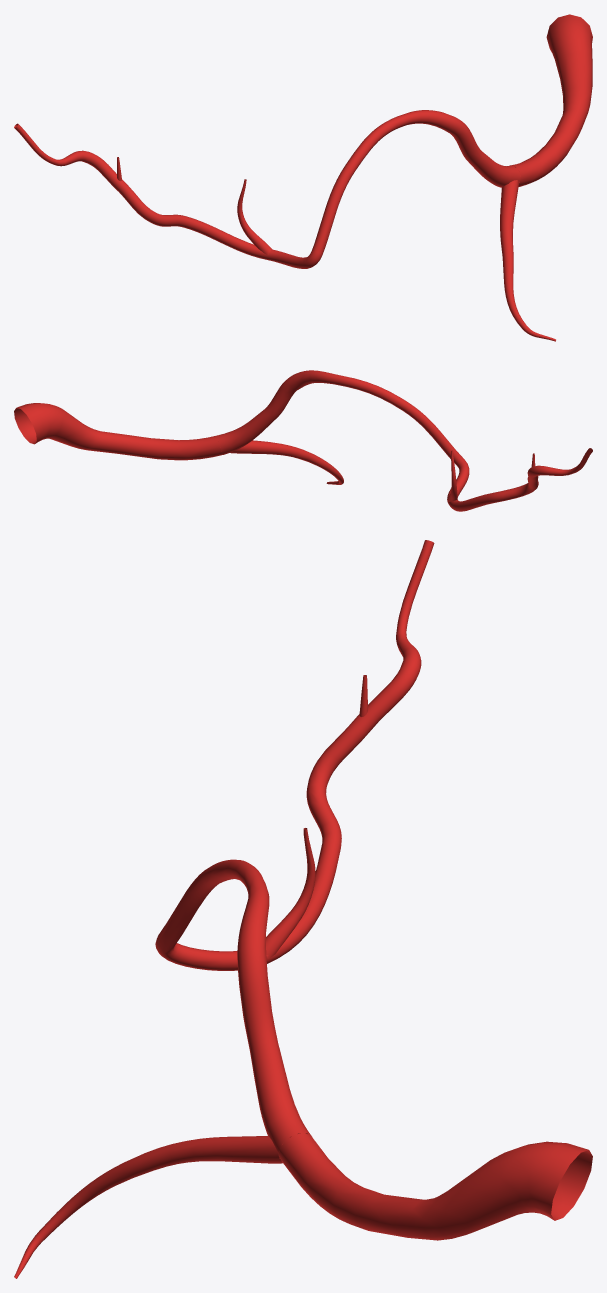
File: circulatorio-common-hepatic-artery.glb
3 renders of one model, top to bottom at view 1: azimuth 30°, elevation 25°; view 2: azimuth 150°, elevation 25°; view 3: azimuth 270°, elevation 25°, orthographic. The views are drawn at different scales.
Parts seen in each view (by area): view 1: Proper hepatic artery, Common hepatic artery, Gastroduodenal artery; view 2: Proper hepatic artery, Common hepatic artery, Gastroduodenal artery; view 3: Proper hepatic artery, Common hepatic artery, Gastroduodenal artery.
Part boxes in pixels (x1=…): Proper hepatic artery: x1=14, y1=110, x2=520, y2=268; Common hepatic artery: x1=509, y1=14, x2=592, y2=186; Gastroduodenal artery: x1=500, y1=180, x2=555, y2=341; Proper hepatic artery: x1=218, y1=370, x2=592, y2=511; Common hepatic artery: x1=14, y1=403, x2=223, y2=460; Gastroduodenal artery: x1=230, y1=440, x2=343, y2=484; Proper hepatic artery: x1=155, y1=540, x2=434, y2=1158; Common hepatic artery: x1=278, y1=1133, x2=592, y2=1240; Gastroduodenal artery: x1=14, y1=1136, x2=291, y2=1278.
Bounding box in the file's own units: 0.1223 × 0.0438 × 0.0586.
